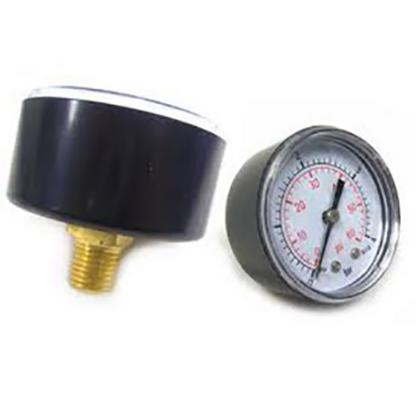needle: (315, 223, 335, 280)
